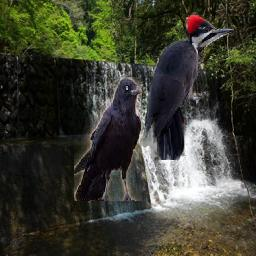Crow: (74, 77, 142, 201)
Woodpecker: (140, 12, 234, 160)
